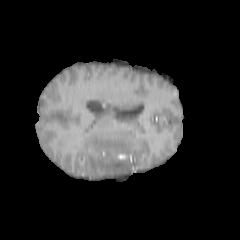glioma: (81, 132, 131, 177)
